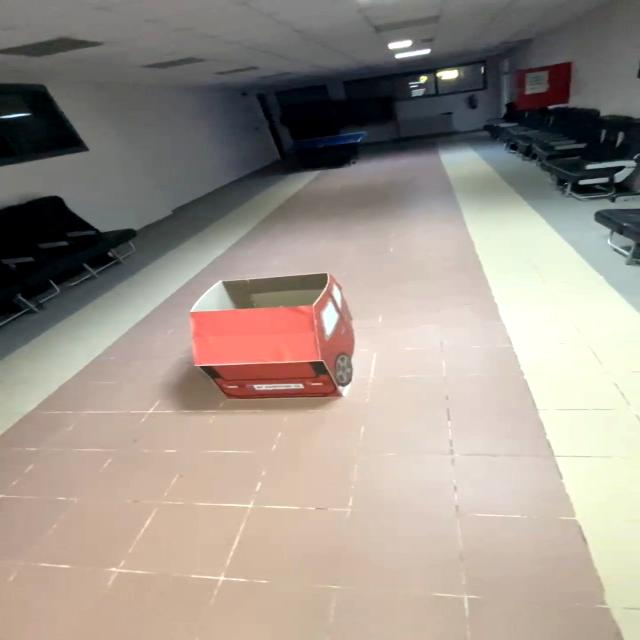red_car: (151, 261, 428, 443)
